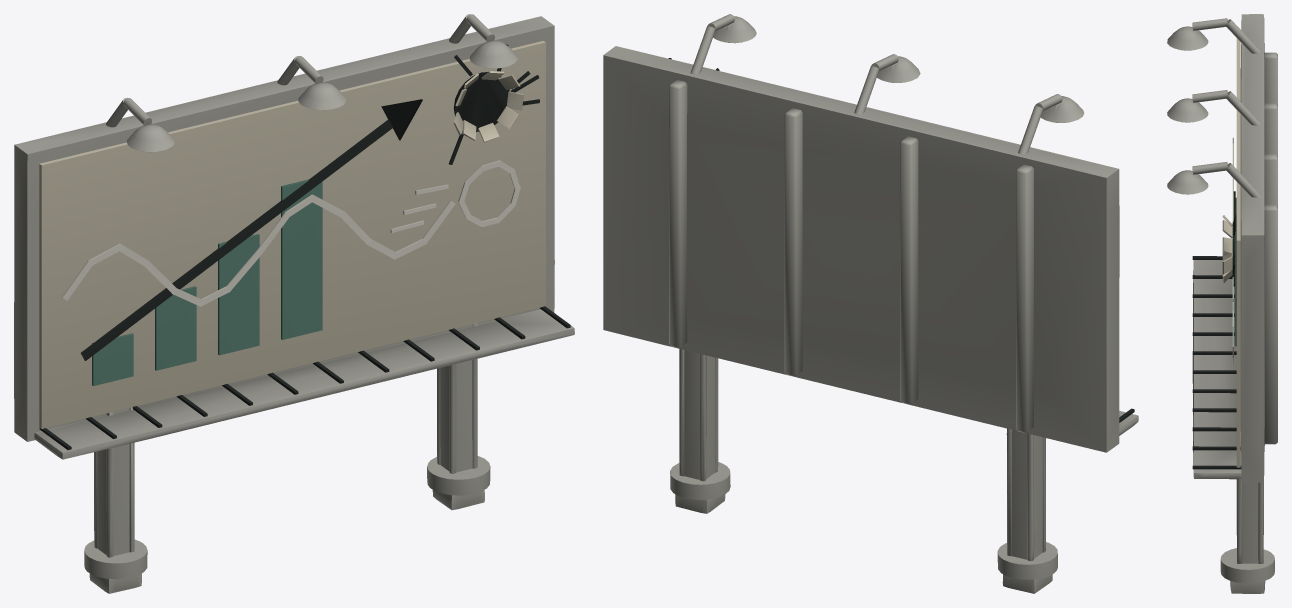
File: foreman_billboard_b_lod1.glb
3 views of the same model, side by side, from view 1: azimuth 30°, elevation 25°; view 2: azimuth 150°, elevation 25°; view 3: azimuth 270°, elevation 25° (orthographic). The views are drawn at different scales.
Visible parts, largest first — view 1: Surface.001; view 2: Surface.001; view 3: Surface.001.
Boxes of the visible parts, left/top/right/bottom form: Surface.001: left=14, top=14, right=574, bottom=593; Surface.001: left=603, top=14, right=1138, bottom=593; Surface.001: left=1167, top=14, right=1277, bottom=593.
Size of the model in its own units: 10.5 by 9.38 by 2.21.
